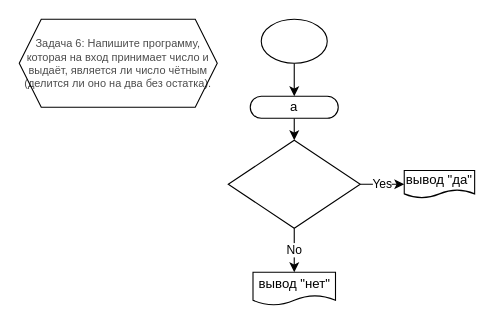
Image size: 494x325. Some labels were removed from this diagram. The centre of each missing label's shape, as x and y in pixels:
a mod 2 = 0: pixel 293 183
start: pixel 293 40
